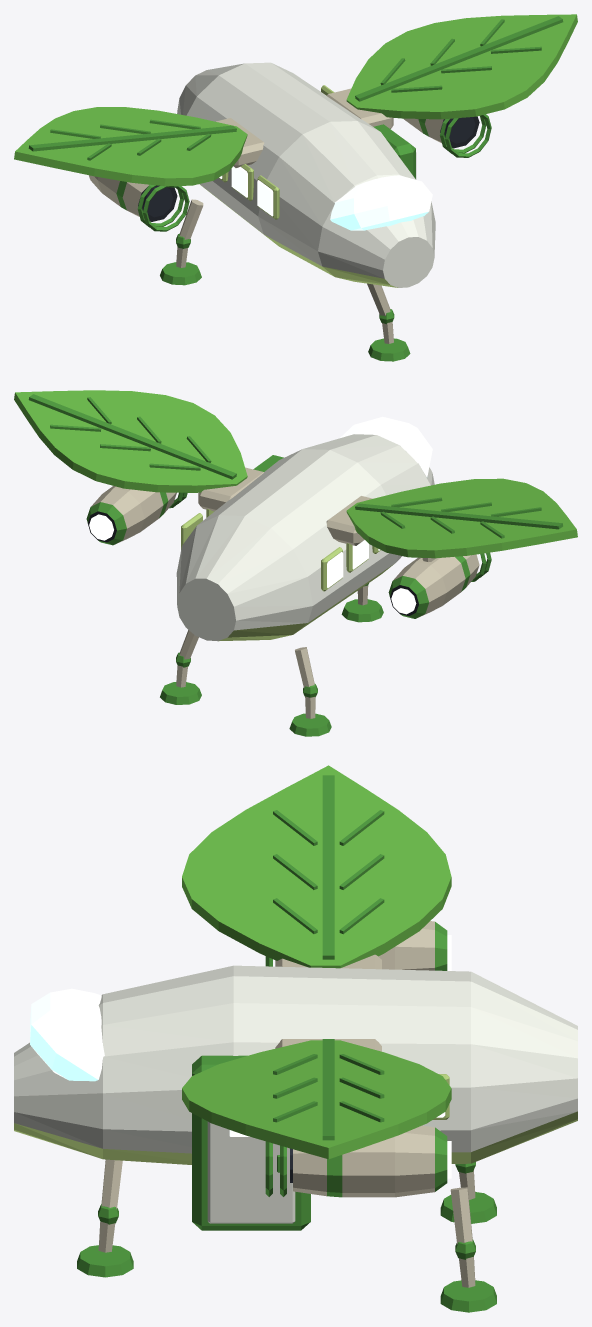
File: ver-p_gelandet.glb
3 renders of one model, top to bottom at view 1: azimuth 30°, elevation 25°; view 2: azimuth 150°, elevation 25°; view 3: azimuth 270°, elevation 25°, orthographic. The views are drawn at different scales.
Visible parts, largest first — view 1: kabine, blattpaneel_l, blattpaneel_r, cockpit, triebwerk_r, triebwerk_l, landebein_3, fenster, landebein_1, träger, türmodul; view 2: kabine, blattpaneel_l, blattpaneel_r, triebwerk_r, triebwerk_l, cockpit, träger, fenster, landebein_3, landebein_2, landebein_1; view 3: kabine, blattpaneel_r, blattpaneel_l, triebwerk_l, tür, cockpit, türmodul, landebein_2, landebein_1, triebwerk_r, landebein_3, träger.
Part boxes in pixels (<box>): kabine: <box>177,62,435,287</box>; blattpaneel_l: <box>346,14,577,119</box>; blattpaneel_r: <box>14,107,247,186</box>; cockpit: <box>330,175,432,230</box>; triebwerk_r: <box>89,175,189,231</box>; triebwerk_l: <box>403,114,491,157</box>; landebein_3: <box>160,199,203,285</box>; fenster: <box>219,85,334,219</box>; landebein_1: <box>367,283,410,361</box>; träger: <box>216,88,393,167</box>; türmodul: <box>373,124,415,178</box>; kabine: <box>176,434,434,641</box>; blattpaneel_l: <box>14,390,247,492</box>; blattpaneel_r: <box>346,478,577,558</box>; triebwerk_r: <box>388,552,491,618</box>; triebwerk_l: <box>86,486,187,545</box>; cockpit: <box>340,416,432,476</box>; träger: <box>198,467,372,545</box>; fenster: <box>180,509,380,591</box>; landebein_3: <box>289,647,331,736</box>; landebein_2: <box>160,630,201,704</box>; landebein_1: <box>341,583,383,622</box>; kabine: <box>14,965,577,1164</box>; blattpaneel_r: <box>182,765,451,968</box>; blattpaneel_l: <box>182,1039,451,1159</box>; triebwerk_l: <box>265,1125,451,1197</box>; tür: <box>207,1121,295,1223</box>; cockpit: <box>30,988,104,1081</box>; türmodul: <box>192,1055,310,1230</box>; landebein_2: <box>440,1187,496,1312</box>; landebein_1: <box>77,1159,133,1277</box>; triebwerk_r: <box>265,921,451,970</box>; landebein_3: <box>440,1162,496,1223</box>; träger: <box>275,954,381,1051</box>.
Bounding box in the file's own units: 0.1913 × 0.0698 × 0.1188.
